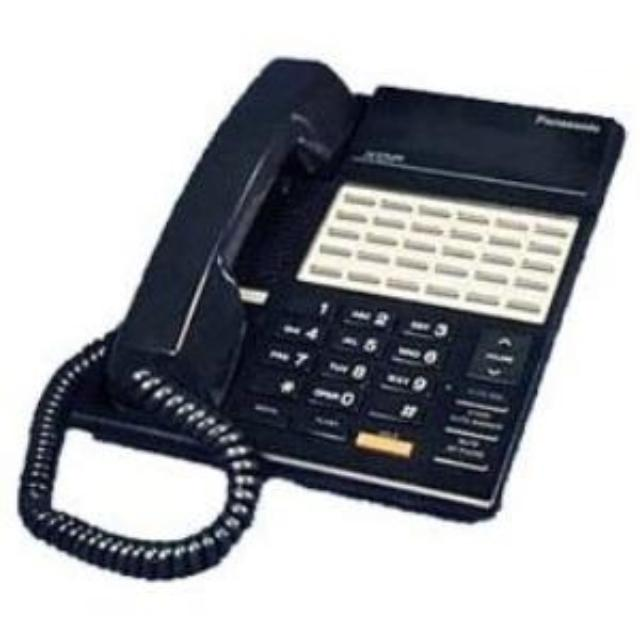Telephone-Set: (20, 54, 630, 584)
